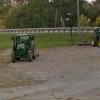Tractor: (7, 24, 39, 68)
